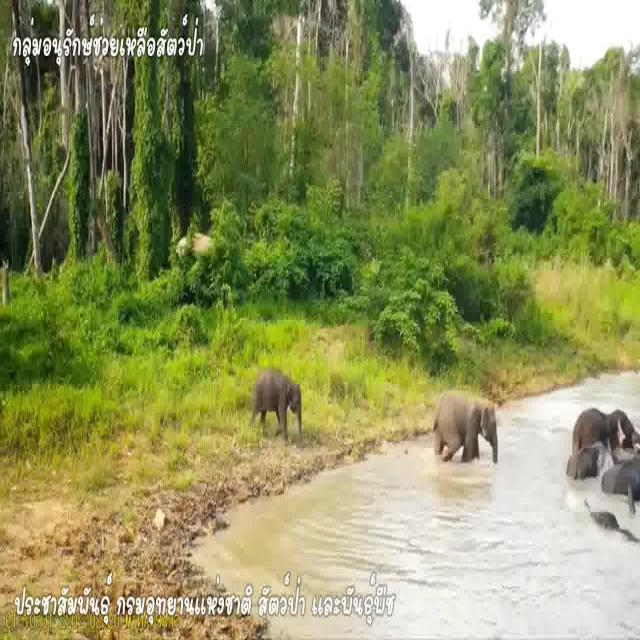Elephant: (432, 382, 498, 460), (250, 356, 305, 425), (576, 401, 634, 451), (601, 454, 640, 504)
